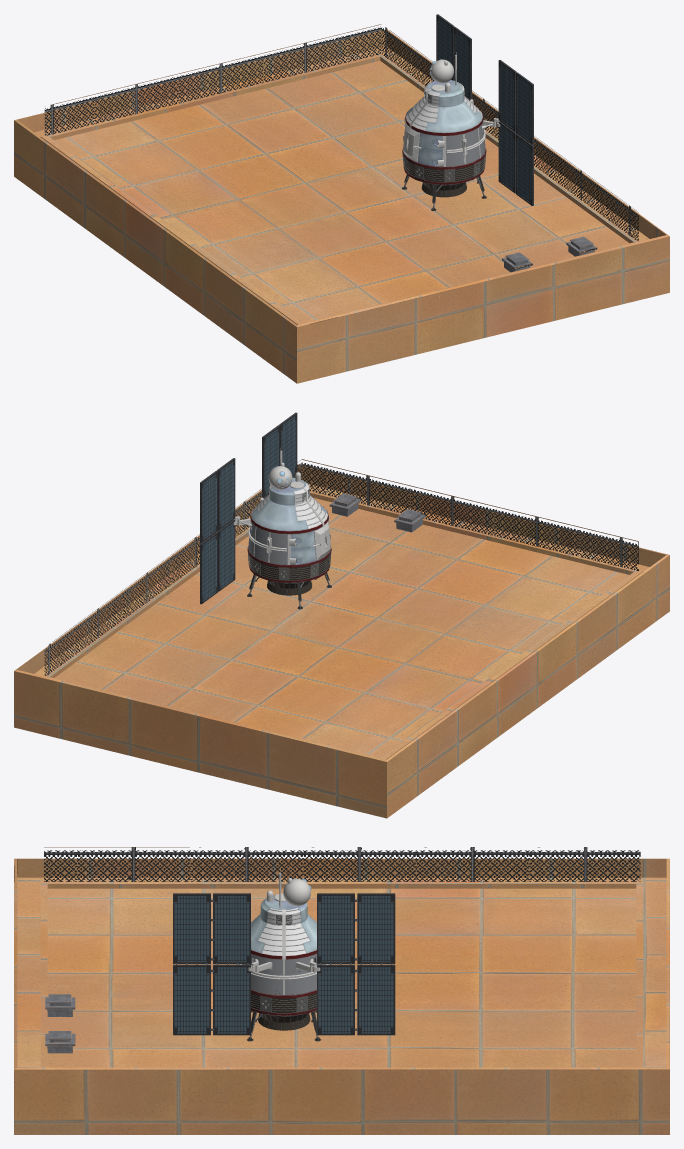
3 renders of one model, top to bottom at view 1: azimuth 30°, elevation 25°; view 2: azimuth 150°, elevation 25°; view 3: azimuth 270°, elevation 25°, orthographic. The views are drawn at different scales.
Parts seen in each view (by area): view 1: Cube.002, Cylinder.021, Plane.005; view 2: Cube.002, Cylinder.021, Plane.005; view 3: Cube.002, Plane.005, Cylinder.021, Roundcube.003.
Part boxes in pixels (left/top/right/bottom): Cube.002: left=14, top=24, right=669, bottom=383; Cylinder.021: left=402, top=80, right=486, bottom=197; Plane.005: left=436, top=14, right=533, bottom=205; Cube.002: left=14, top=459, right=669, bottom=818; Cylinder.021: left=247, top=477, right=331, bottom=595; Plane.005: left=200, top=412, right=297, bottom=604; Cube.002: left=14, top=847, right=669, bottom=1134; Plane.005: left=173, top=893, right=395, bottom=1035; Cylinder.021: left=242, top=894, right=325, bottom=1030; Roundcube.003: left=283, top=878, right=310, bottom=906.
Size of the model in its own units: 24.38 by 11.26 by 32.04.
3 materials, 3 textured.
